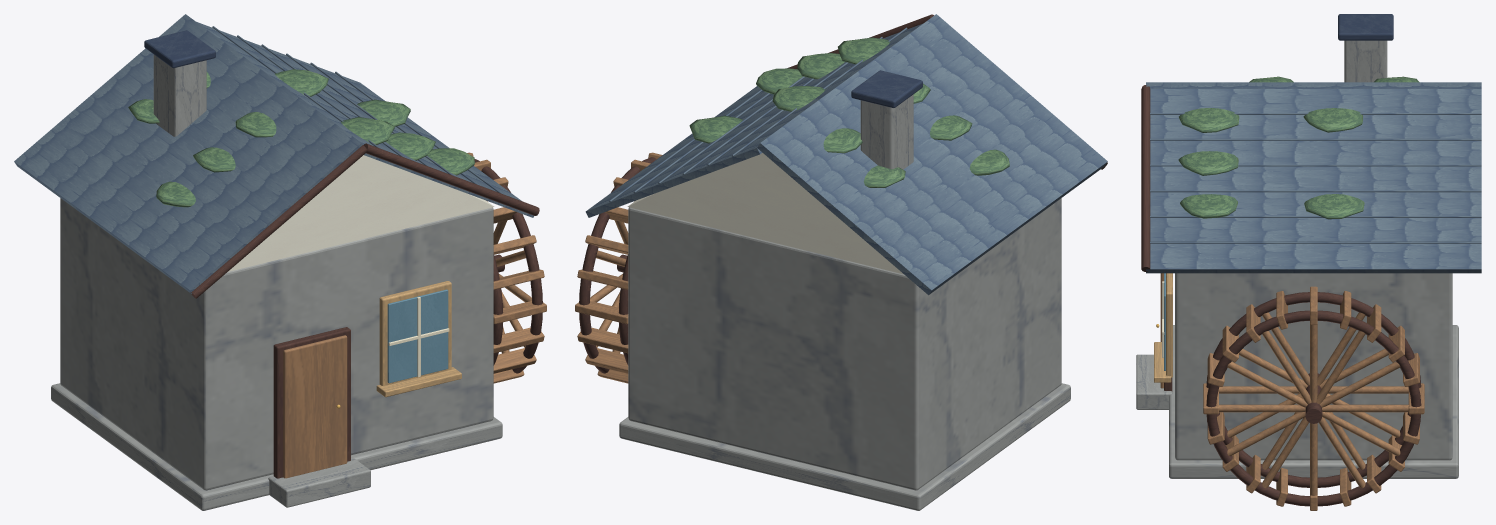
File: mill.glb
The picture shows the model from 3 angles, left to right: view 1: azimuth 30°, elevation 25°; view 2: azimuth 150°, elevation 25°; view 3: azimuth 270°, elevation 25°; orthographic projection. The views are drawn at different scales.
Parts seen in each view (by area): view 1: mill; view 2: mill; view 3: mill.
Part boxes in pixels (x1,y1,x2,y2): mill: (14, 14, 546, 510); mill: (575, 14, 1107, 510); mill: (1136, 14, 1481, 510).
Size of the model in its own units: 6.32 by 5.68 by 4.98.
Materials: 3 (3 with a texture image).
